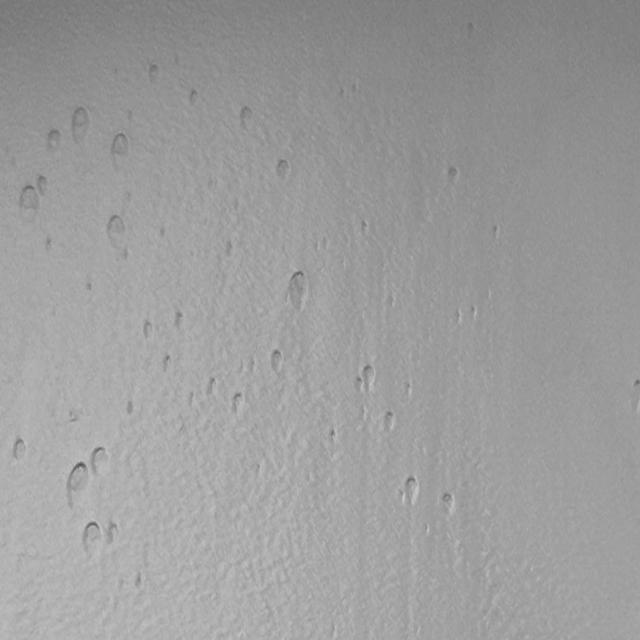pin holes: (283, 269, 312, 312), (78, 520, 104, 560), (105, 210, 130, 251), (65, 461, 91, 498), (67, 107, 92, 143), (18, 179, 43, 213), (110, 131, 134, 164), (88, 445, 112, 476), (402, 476, 423, 506), (266, 349, 288, 377), (236, 107, 258, 135), (42, 128, 64, 155), (9, 436, 30, 464), (272, 156, 292, 184), (358, 363, 378, 391), (444, 163, 464, 188), (439, 489, 458, 515), (140, 317, 158, 343), (145, 62, 163, 87), (172, 309, 190, 334), (229, 390, 246, 416), (462, 20, 481, 43), (381, 410, 399, 434), (108, 521, 125, 546), (36, 174, 53, 198), (352, 373, 367, 396), (186, 88, 202, 109), (206, 376, 221, 397), (124, 401, 140, 420), (44, 235, 57, 256), (66, 408, 83, 424), (629, 380, 639, 407), (452, 307, 466, 326), (162, 352, 174, 374), (358, 402, 370, 424), (157, 223, 169, 245), (186, 387, 196, 413), (348, 78, 360, 99), (225, 240, 236, 262), (403, 382, 415, 402), (360, 220, 373, 237), (329, 428, 341, 446), (468, 304, 480, 322), (133, 574, 145, 592), (492, 223, 504, 240), (85, 278, 97, 294), (248, 358, 258, 377), (339, 84, 348, 104), (386, 292, 395, 308)
